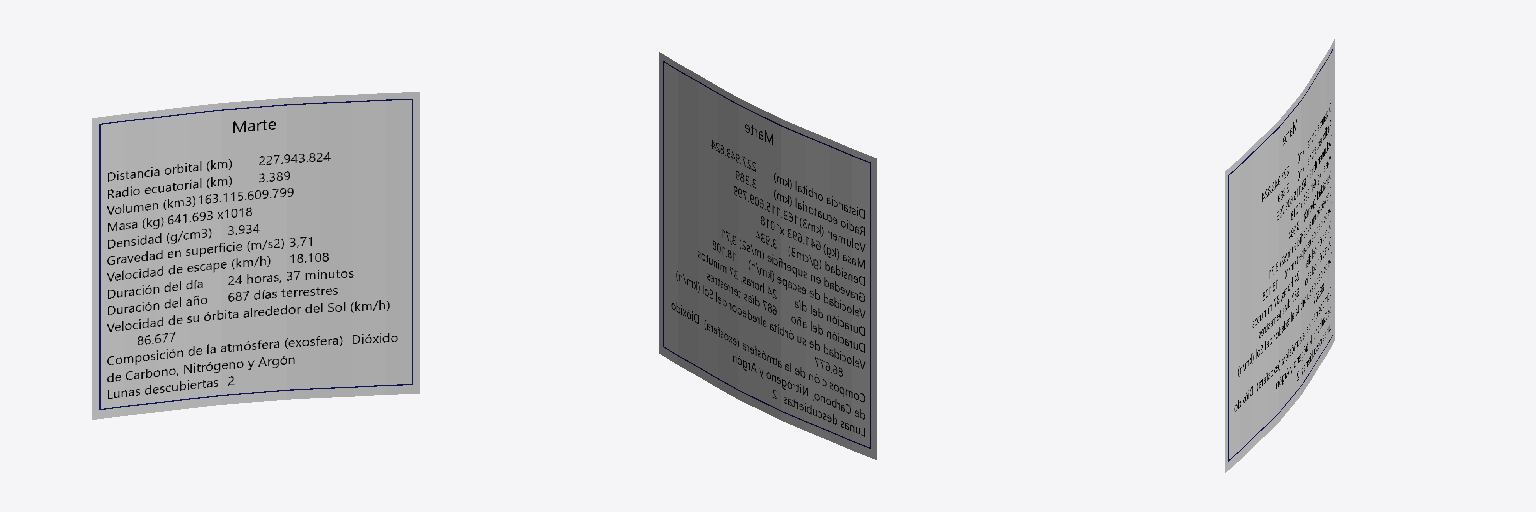
The picture shows the model from 3 angles: view 1: azimuth 30°, elevation 25°; view 2: azimuth 150°, elevation 25°; view 3: azimuth 270°, elevation 25°; orthographic projection.
Parts seen in each view (by area): view 1: pPlane1; view 2: pPlane1; view 3: pPlane1.
Part boxes in pixels (x1,y1,x2,y2): pPlane1: (92, 92, 419, 419); pPlane1: (659, 52, 876, 459); pPlane1: (1225, 39, 1334, 472).
Bounding box in the file's own units: 2.83 × 3 × 0.9887.
1 materials, 1 textured.